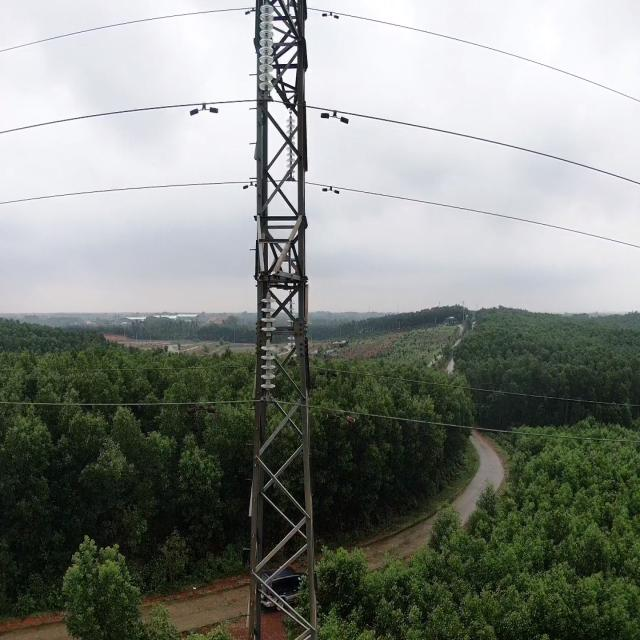杆塔: (232, 0, 332, 640)
正常绝缘子: (259, 289, 277, 397), (256, 2, 276, 94), (285, 109, 297, 182)
绝缘子破损: (265, 333, 272, 342)
